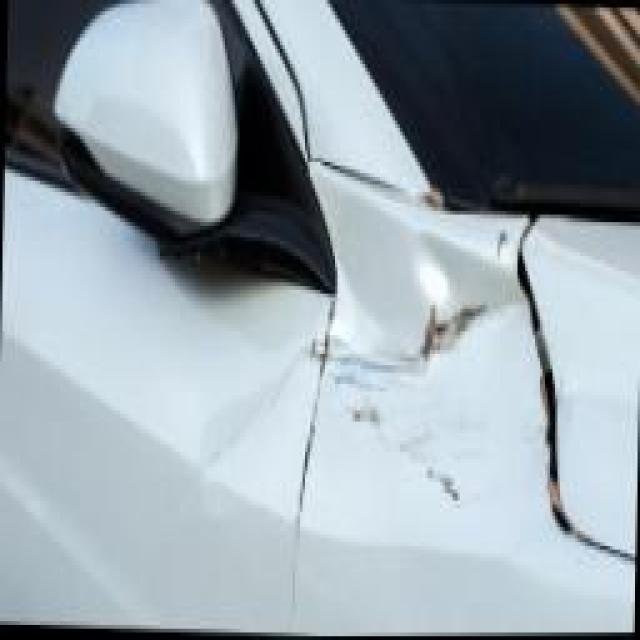Fender: (288, 203, 640, 639)
